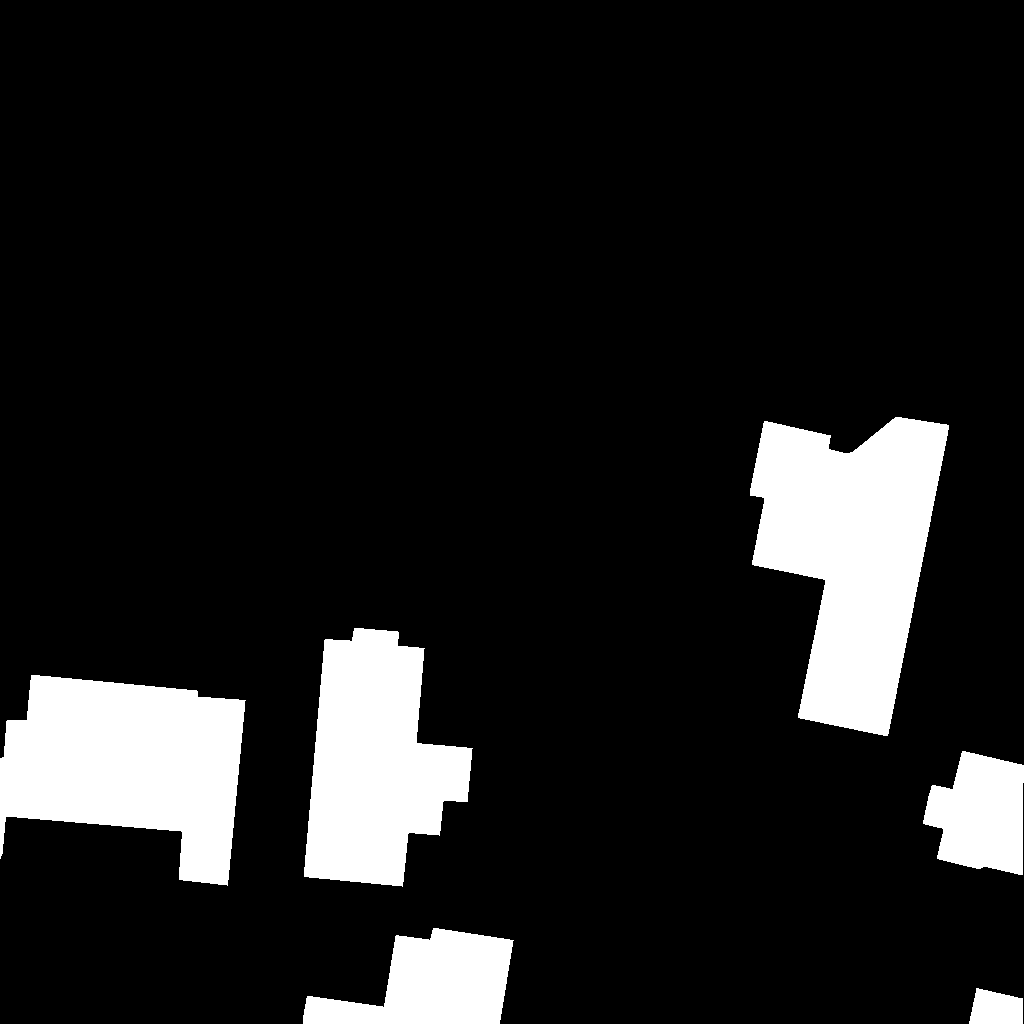building: (750, 417, 950, 737), (0, 675, 246, 886), (304, 628, 473, 887), (303, 928, 514, 1024), (923, 751, 1024, 876), (969, 988, 1024, 1024), (1022, 311, 1024, 318)
